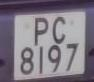1: (36, 44, 48, 77)
7: (62, 40, 81, 76)
8: (18, 44, 37, 79)
9: (46, 44, 64, 76)
C: (50, 14, 69, 48)
P: (32, 14, 52, 50)
